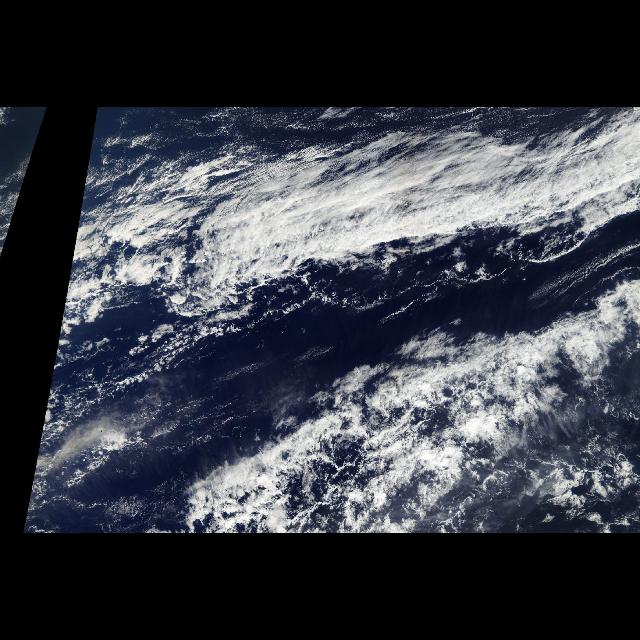Fish: (175, 292, 631, 534)
Sugar: (96, 110, 516, 154)
